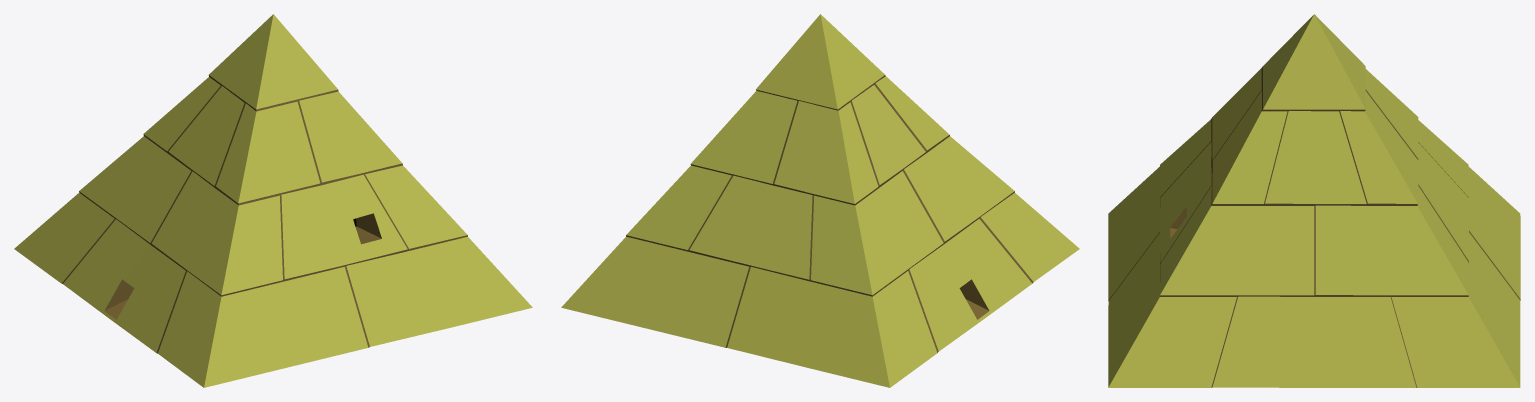
The picture shows the model from 3 angles, left to right: view 1: azimuth 30°, elevation 25°; view 2: azimuth 150°, elevation 25°; view 3: azimuth 270°, elevation 25°; orthographic projection. The views are drawn at different scales.
Visible parts, largest first — view 1: Pyramid; view 2: Pyramid; view 3: Pyramid.
Part boxes in pixels (x1,y1,x2,y2): Pyramid: (14,14,532,387); Pyramid: (561,14,1079,387); Pyramid: (1108,14,1520,387).
Size of the model in its own units: 2326 by 1784 by 2326.
